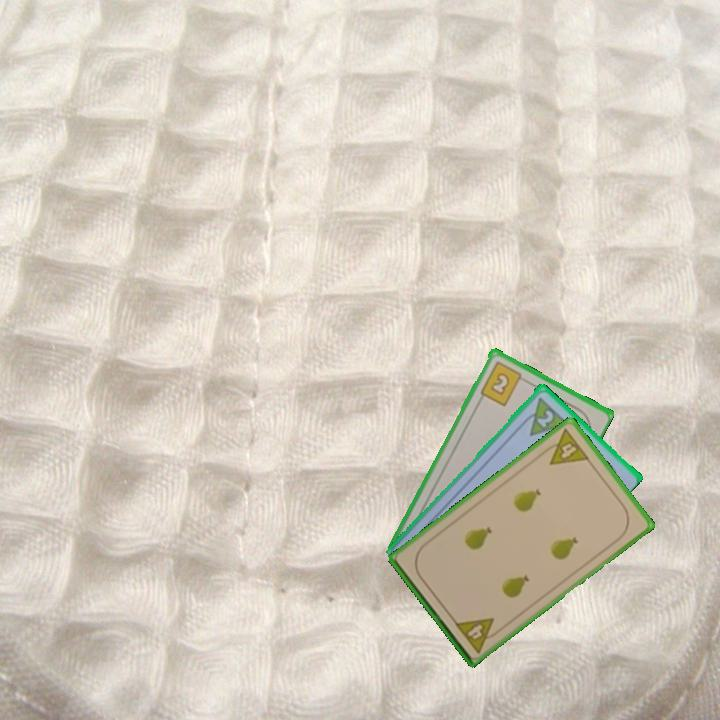2b: (476, 357, 529, 408)
2p: (533, 406, 557, 430)
4p: (538, 425, 592, 468), (451, 614, 504, 656)
